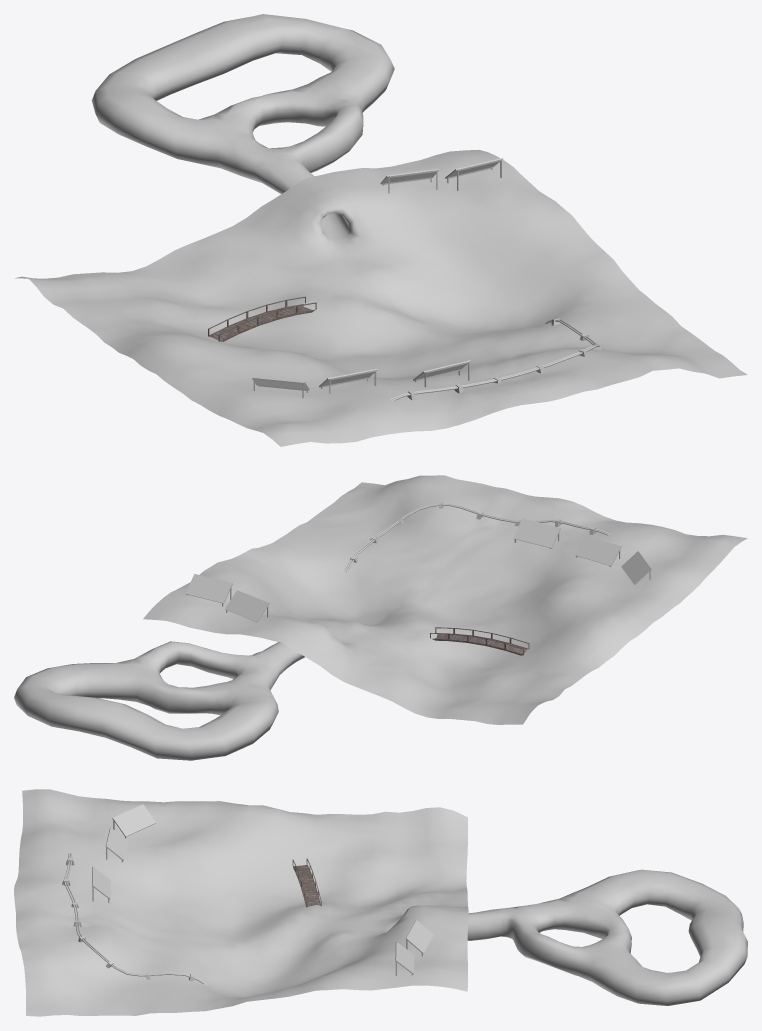
Rendered from inspection_world.dae.
3 views of the same model, one above another, from view 1: azimuth 30°, elevation 25°; view 2: azimuth 150°, elevation 25°; view 3: azimuth 270°, elevation 25° (orthographic). The views are drawn at different scales.
Parts seen in each view (by area): view 1: Plane, Cube.002, Circle; view 2: Plane, Circle, Cube.002, Cube.004, Cube.003, Cube.001, Cube.005, Cube; view 3: Plane, Circle, Cube, Cube.002, Cube.005, Cube.001, Cube.004, Cube.003.
Boxes of the visible parts, x1=… form: Plane: x1=15, y1=14, x2=747, y2=446; Cube.002: x1=208, y1=296, x2=316, y2=341; Circle: x1=390, y1=318, x2=602, y2=400; Plane: x1=14, y1=475, x2=747, y2=760; Circle: x1=344, y1=502, x2=610, y2=573; Cube.002: x1=430, y1=627, x2=529, y2=655; Cube.004: x1=185, y1=574, x2=232, y2=606; Cube.003: x1=513, y1=518, x2=560, y2=548; Cube.001: x1=575, y1=535, x2=621, y2=566; Cube.005: x1=225, y1=590, x2=269, y2=622; Cube: x1=621, y1=551, x2=651, y2=584; Plane: x1=14, y1=789, x2=747, y2=1016; Circle: x1=62, y1=853, x2=208, y2=985; Cube: x1=112, y1=804, x2=155, y2=838; Cube.002: x1=292, y1=858, x2=321, y2=907; Cube.005: x1=405, y1=920, x2=433, y2=956; Cube.001: x1=105, y1=827, x2=128, y2=862; Cube.004: x1=395, y1=941, x2=414, y2=975; Cube.003: x1=92, y1=866, x2=110, y2=902.
Bounding box in the file's own units: 64.43 × 99.62 × 10.44.
